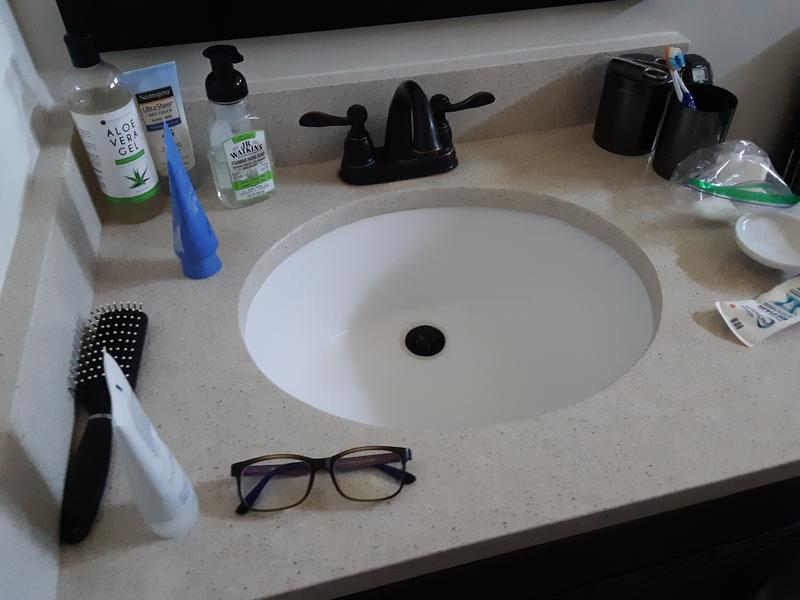glasses: (230, 444, 418, 517)
